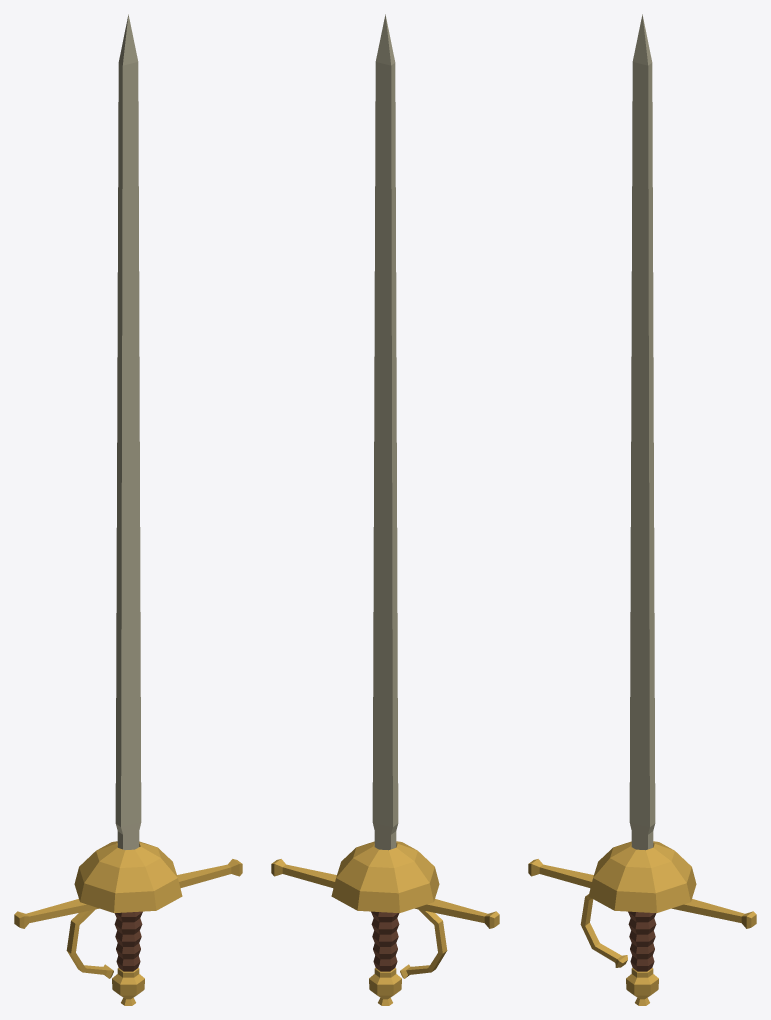
The model's file is Rapier_1.fbx.
The picture shows the model from 3 angles, left to right: view 1: azimuth 30°, elevation 25°; view 2: azimuth 150°, elevation 25°; view 3: azimuth 330°, elevation 25°; orthographic projection.
Visible parts, largest first — view 1: Rapier_1; view 2: Rapier_1; view 3: Rapier_1.
Boxes of the visible parts, x1,y1,x2,y2 form: Rapier_1: [14, 14, 242, 1005]; Rapier_1: [271, 14, 499, 1005]; Rapier_1: [528, 14, 756, 1005].
Bounding box in the file's own units: 31.25 × 133 × 13.58.
